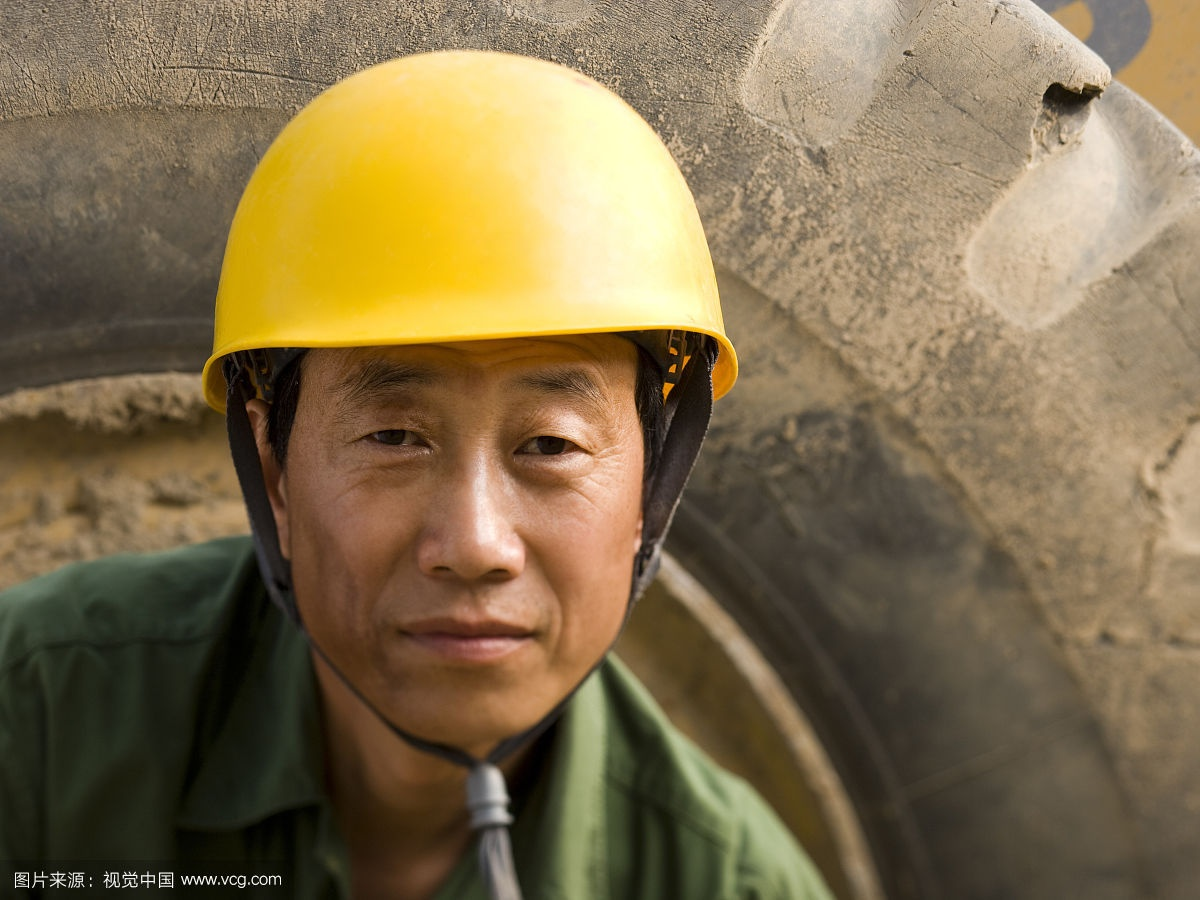yellow: (200, 49, 733, 740)
